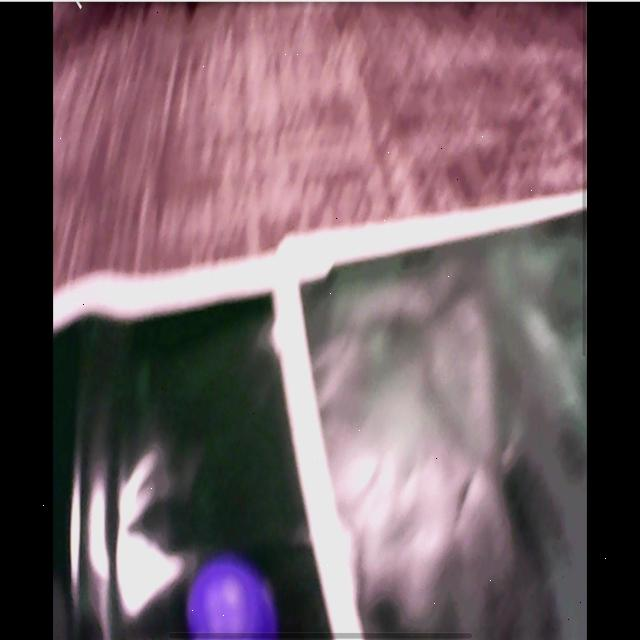ball: (187, 563, 276, 636)
